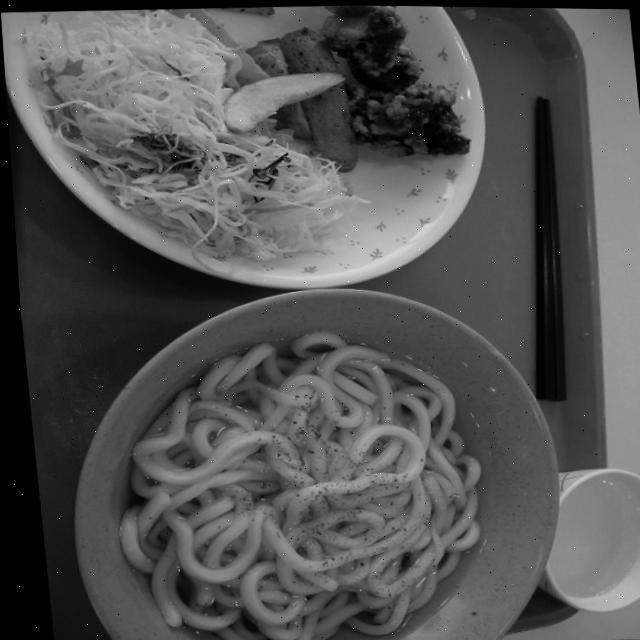面条主食: (66, 276, 523, 640)
